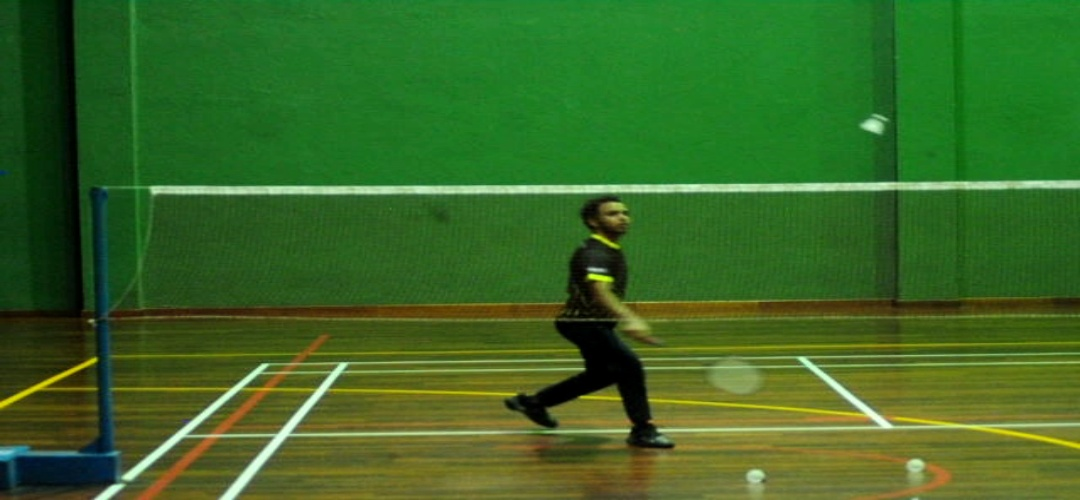c1: (271, 430, 293, 444)
c2: (872, 416, 902, 439)
player: (505, 197, 683, 451)
shuttle: (860, 111, 888, 138)
